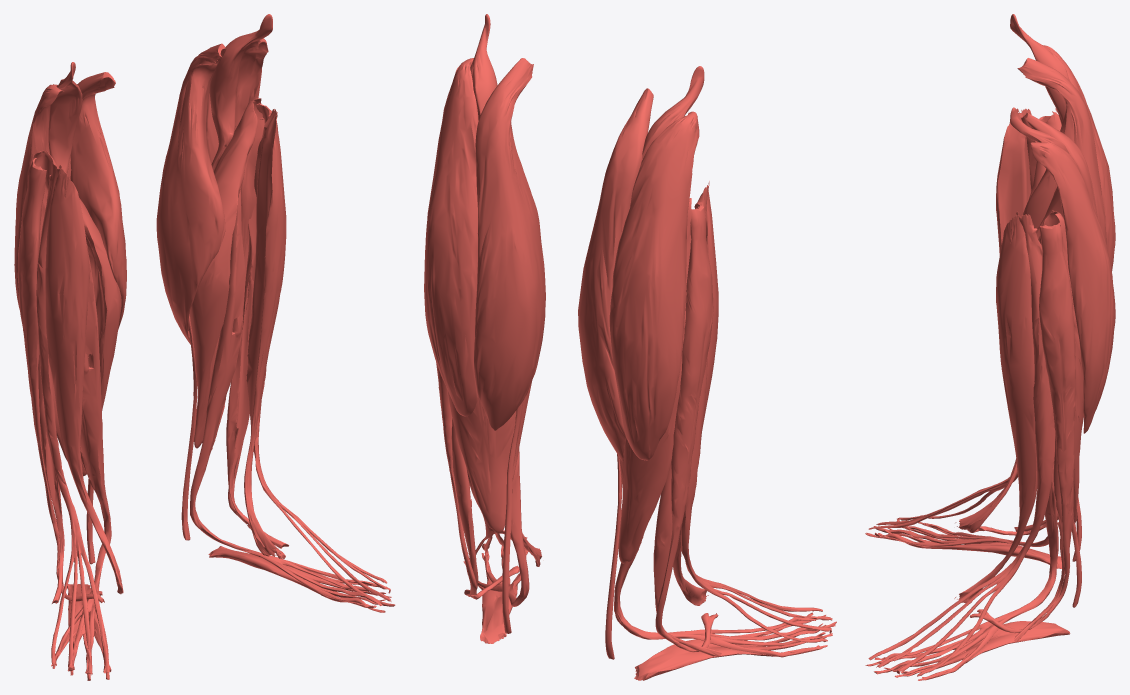
File: supplement-ankle-foot-muscle.glb
3 views of the same model, side by side, from view 1: azimuth 30°, elevation 25°; view 2: azimuth 150°, elevation 25°; view 3: azimuth 270°, elevation 25° (orthographic). The views are drawn at different scales.
Visible parts, largest first — view 1: ankle-foot:gastrocnemius:isa:FJ1397M, ankle-foot:tibialis-anterior:isa:FJ1439, ankle-foot:soleus:isa:FJ1437M, ankle-foot:tibialis-anterior:isa:FJ1439M, ankle-foot:flexor-digitorum-longus:isa:FJ1414M, ankle-foot:gastrocnemius:isa:FJ1397, ankle-foot:extensor-digitorum-longus:isa:FJ1406, ankle-foot:flexor-digitorum-longus:isa:FJ1414, ankle-foot:fibularis-longus:isa:FJ1410, ankle-foot:soleus:isa:FJ1437, ankle-foot:plantaris:isa:FJ1429M, ankle-foot:fibularis-brevis:isa:FJ1409M (+8 smaller); view 2: ankle-foot:gastrocnemius:isa:FJ1394, ankle-foot:gastrocnemius:isa:FJ1397M, ankle-foot:gastrocnemius:isa:FJ1394M, ankle-foot:gastrocnemius:isa:FJ1397, ankle-foot:fibularis-longus:isa:FJ1410, ankle-foot:soleus:isa:FJ1437M, ankle-foot:soleus:isa:FJ1437, ankle-foot:extensor-digitorum-longus:isa:FJ1406, ankle-foot:flexor-digitorum-longus:isa:FJ1414, ankle-foot:plantaris:isa:FJ1429M, ankle-foot:flexor-digitorum-brevis:isa:FJ1413, ankle-foot:plantaris:isa:FJ1429 (+6 smaller); view 3: ankle-foot:gastrocnemius:isa:FJ1394M, ankle-foot:tibialis-anterior:isa:FJ1439M, ankle-foot:fibularis-longus:isa:FJ1410M, ankle-foot:extensor-digitorum-longus:isa:FJ1406M, ankle-foot:gastrocnemius:isa:FJ1397, ankle-foot:tibialis-anterior:isa:FJ1439, ankle-foot:flexor-digitorum-longus:isa:FJ1414M, ankle-foot:flexor-digitorum-brevis:isa:FJ1413M, ankle-foot:soleus:isa:FJ1437M, ankle-foot:gastrocnemius:isa:FJ1394, ankle-foot:flexor-digitorum-longus:isa:FJ1414, ankle-foot:flexor-digitorum-brevis:isa:FJ1413 (+6 smaller).
Boxes of the visible parts, x1,y1,x2,y2 form: ankle-foot:gastrocnemius:isa:FJ1397M: (156,43,226,344); ankle-foot:tibialis-anterior:isa:FJ1439: (45,169,123,594); ankle-foot:soleus:isa:FJ1437M: (189,98,264,448); ankle-foot:tibialis-anterior:isa:FJ1439M: (244,116,286,556); ankle-foot:flexor-digitorum-longus:isa:FJ1414M: (190,190,395,612); ankle-foot:gastrocnemius:isa:FJ1397: (70,72,126,328); ankle-foot:extensor-digitorum-longus:isa:FJ1406: (36,162,109,675); ankle-foot:flexor-digitorum-longus:isa:FJ1414: (52,242,111,680); ankle-foot:fibularis-longus:isa:FJ1410: (17,158,104,602); ankle-foot:soleus:isa:FJ1437: (32,150,121,476); ankle-foot:plantaris:isa:FJ1429M: (181,14,272,540); ankle-foot:fibularis-brevis:isa:FJ1409M: (226,277,288,548); ankle-foot:gastrocnemius:isa:FJ1394: (609,111,699,460); ankle-foot:gastrocnemius:isa:FJ1397M: (474,58,545,430); ankle-foot:gastrocnemius:isa:FJ1394M: (424,58,478,416); ankle-foot:gastrocnemius:isa:FJ1397: (578,88,653,461); ankle-foot:fibularis-longus:isa:FJ1410: (655,204,718,652); ankle-foot:soleus:isa:FJ1437M: (446,380,532,533); ankle-foot:soleus:isa:FJ1437: (618,198,692,563); ankle-foot:extensor-digitorum-longus:isa:FJ1406: (681,181,832,642); ankle-foot:flexor-digitorum-longus:isa:FJ1414: (614,535,836,657); ankle-foot:plantaris:isa:FJ1429M: (470,14,523,633); ankle-foot:flexor-digitorum-brevis:isa:FJ1413: (634,612,826,680); ankle-foot:plantaris:isa:FJ1429: (605,66,704,659); ankle-foot:gastrocnemius:isa:FJ1394M: (1031,142,1115,433); ankle-foot:tibialis-anterior:isa:FJ1439M: (954,215,1037,603); ankle-foot:fibularis-longus:isa:FJ1410M: (968,222,1075,633); ankle-foot:extensor-digitorum-longus:isa:FJ1406M: (868,212,1055,676); ankle-foot:gastrocnemius:isa:FJ1397: (1017,58,1106,244); ankle-foot:tibialis-anterior:isa:FJ1439: (955,113,1031,532); ankle-foot:flexor-digitorum-longus:isa:FJ1414M: (865,464,1058,680); ankle-foot:flexor-digitorum-brevis:isa:FJ1413M: (874,621,1070,680); ankle-foot:soleus:isa:FJ1437M: (1038,210,1083,523); ankle-foot:gastrocnemius:isa:FJ1394: (1043,45,1115,271); ankle-foot:flexor-digitorum-longus:isa:FJ1414: (865,501,1057,546); ankle-foot:flexor-digitorum-brevis:isa:FJ1413: (874,523,1061,568).
Size of the model in its own units: 0.3321 by 0.5287 by 0.2207.
